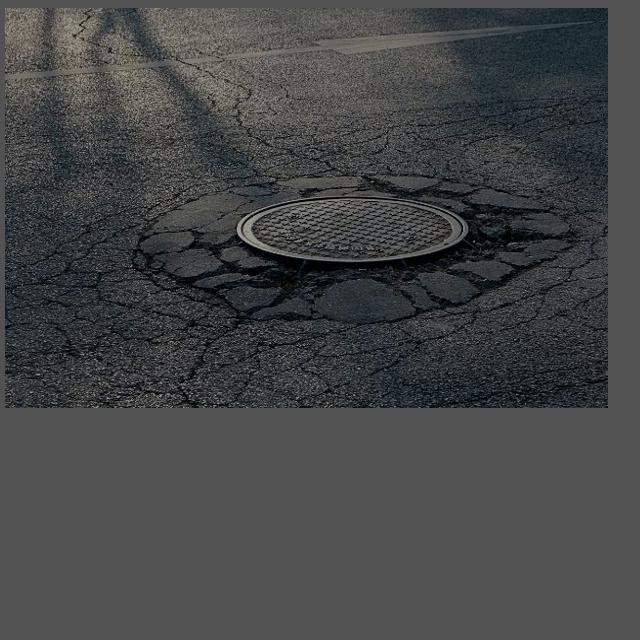circle: (130, 155, 551, 341)
